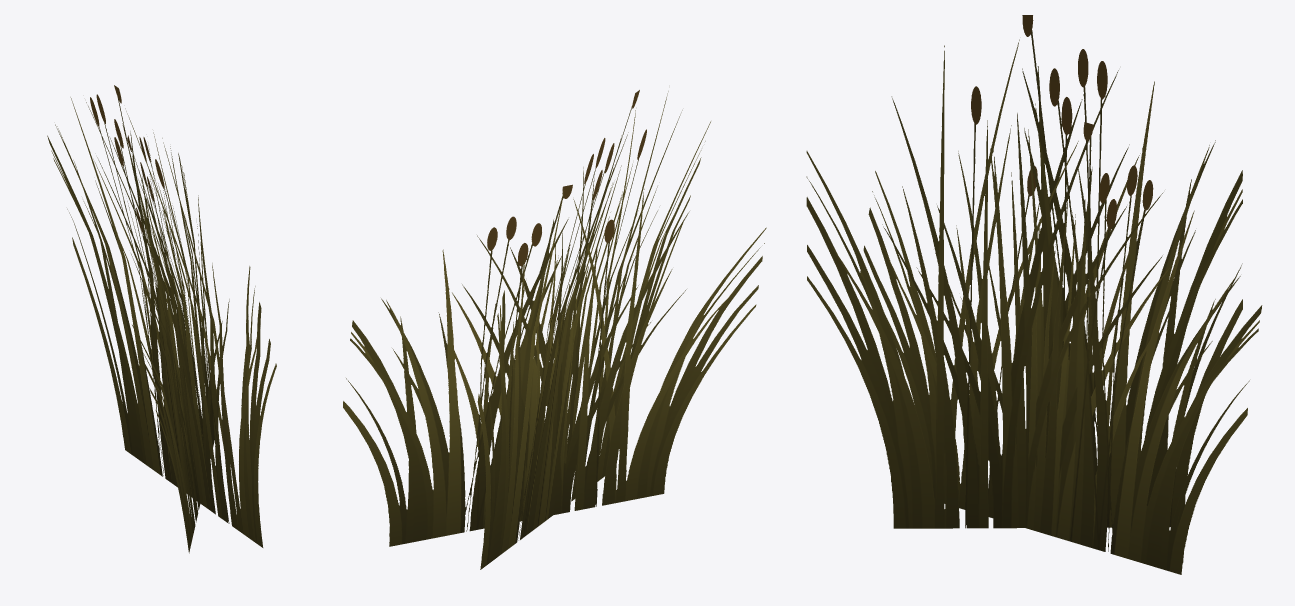
Rendered from savanna_grass_2_burnt3.glb.
The picture shows the model from 3 angles, left to right: view 1: azimuth 30°, elevation 25°; view 2: azimuth 150°, elevation 25°; view 3: azimuth 270°, elevation 25°; orthographic projection. The views are drawn at different scales.
Visible parts, largest first — view 1: savanna_grass_2_burnt3; view 2: savanna_grass_2_burnt3; view 3: savanna_grass_2_burnt3.
Boxes of the visible parts, box(x1,y1,x2,y2) form: savanna_grass_2_burnt3: box(47, 85, 276, 553); savanna_grass_2_burnt3: box(343, 90, 766, 569); savanna_grass_2_burnt3: box(806, 15, 1262, 574).
Bounding box in the file's own units: 0.5856 × 0.8863 × 0.8105.
Materials: 1 (1 with a texture image).
